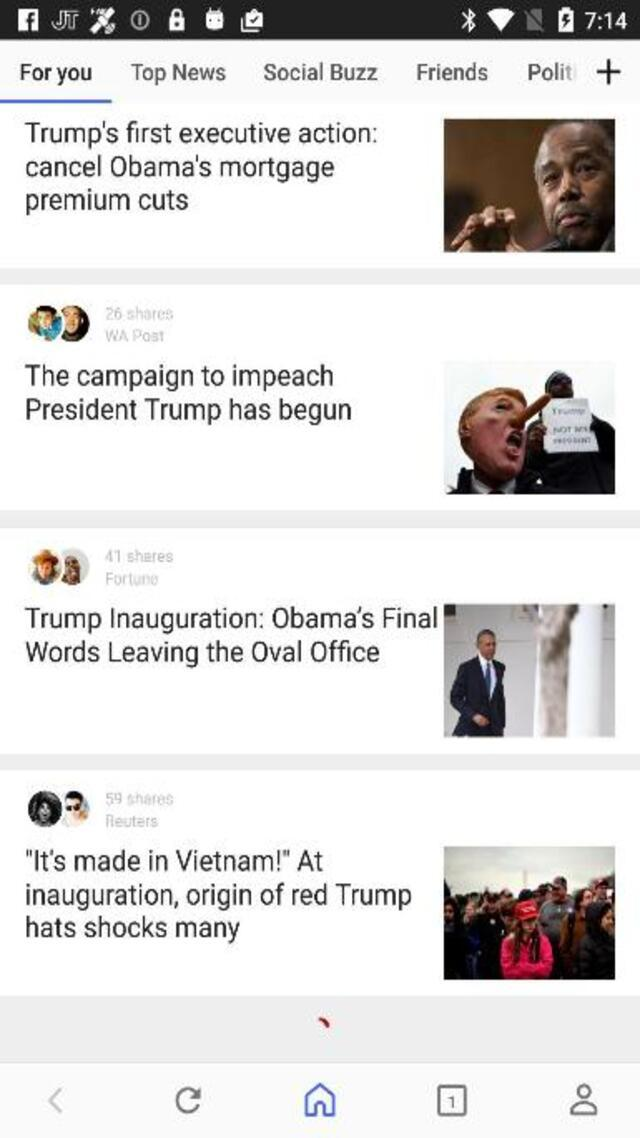Icon: (443, 845, 614, 978), (443, 604, 614, 737), (443, 362, 614, 494), (443, 119, 614, 251), (303, 1082, 335, 1116), (437, 1084, 467, 1116), (570, 1083, 598, 1115), (176, 1086, 200, 1114), (597, 60, 620, 86), (48, 1087, 62, 1114)
Image: (27, 790, 89, 828), (27, 547, 89, 584), (27, 305, 89, 342)
Text: (23, 878, 412, 912), (26, 118, 376, 151), (25, 606, 437, 634), (21, 396, 355, 428), (25, 638, 380, 668), (21, 362, 339, 392), (25, 156, 335, 186), (27, 849, 327, 876), (22, 916, 238, 946), (24, 188, 192, 217), (264, 61, 378, 81), (130, 63, 226, 86), (21, 63, 92, 86), (417, 61, 488, 81), (105, 548, 173, 564), (105, 791, 173, 806), (530, 61, 578, 81), (104, 306, 172, 320), (104, 329, 164, 343), (105, 571, 158, 585), (105, 816, 158, 827)
